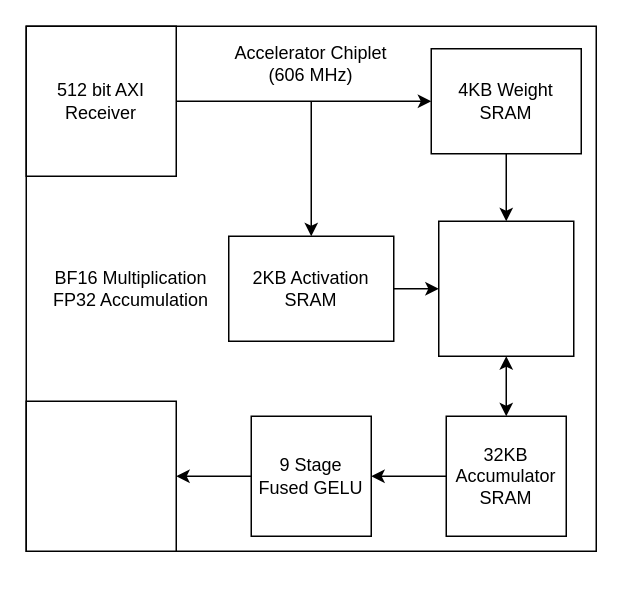
This 623x590 diagram has some shape labels left out. The centre of each missing label's shape, as x and y in pixels:
32 x 32 Weight Stationary Systolic Array: the point at 505,288
512 bit AXI Sender: the point at 100,475
